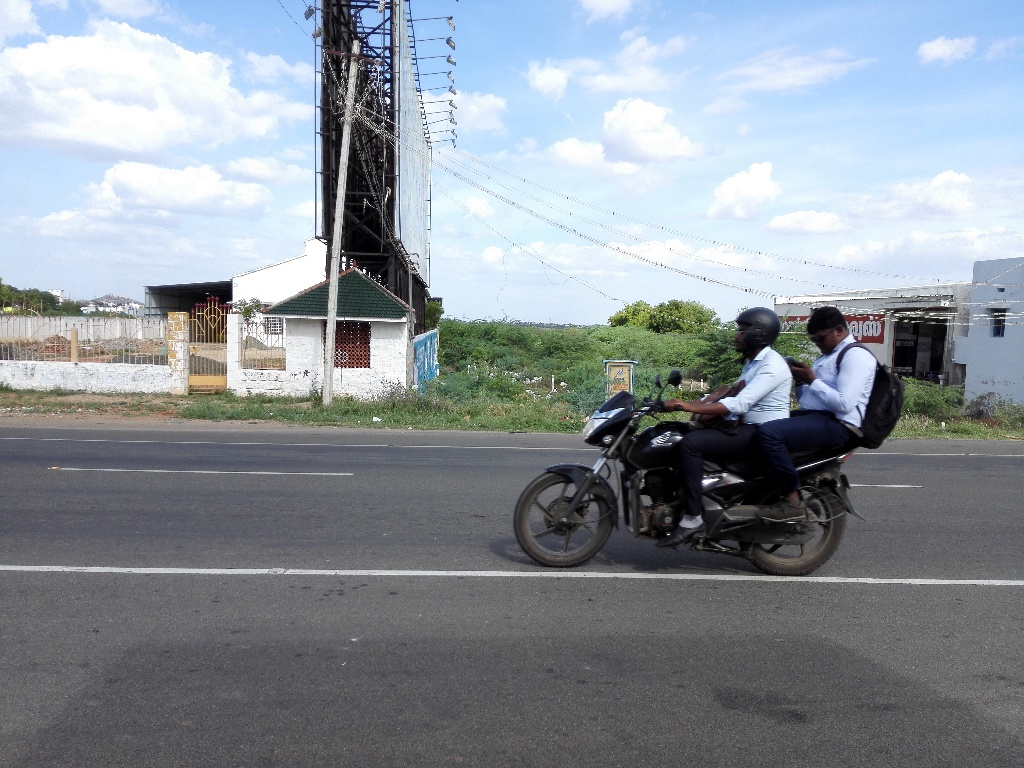biker: (495, 213, 927, 585)
helmet: (723, 300, 791, 365)
nohelmet: (801, 293, 869, 358)
